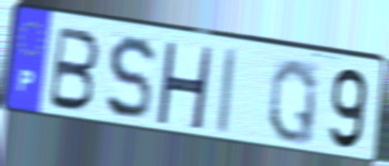9: (327, 67, 369, 151)
B: (45, 24, 103, 115)
H: (153, 38, 214, 132)
I: (215, 46, 239, 137)
Q: (266, 55, 320, 148)
S: (104, 33, 158, 123)
